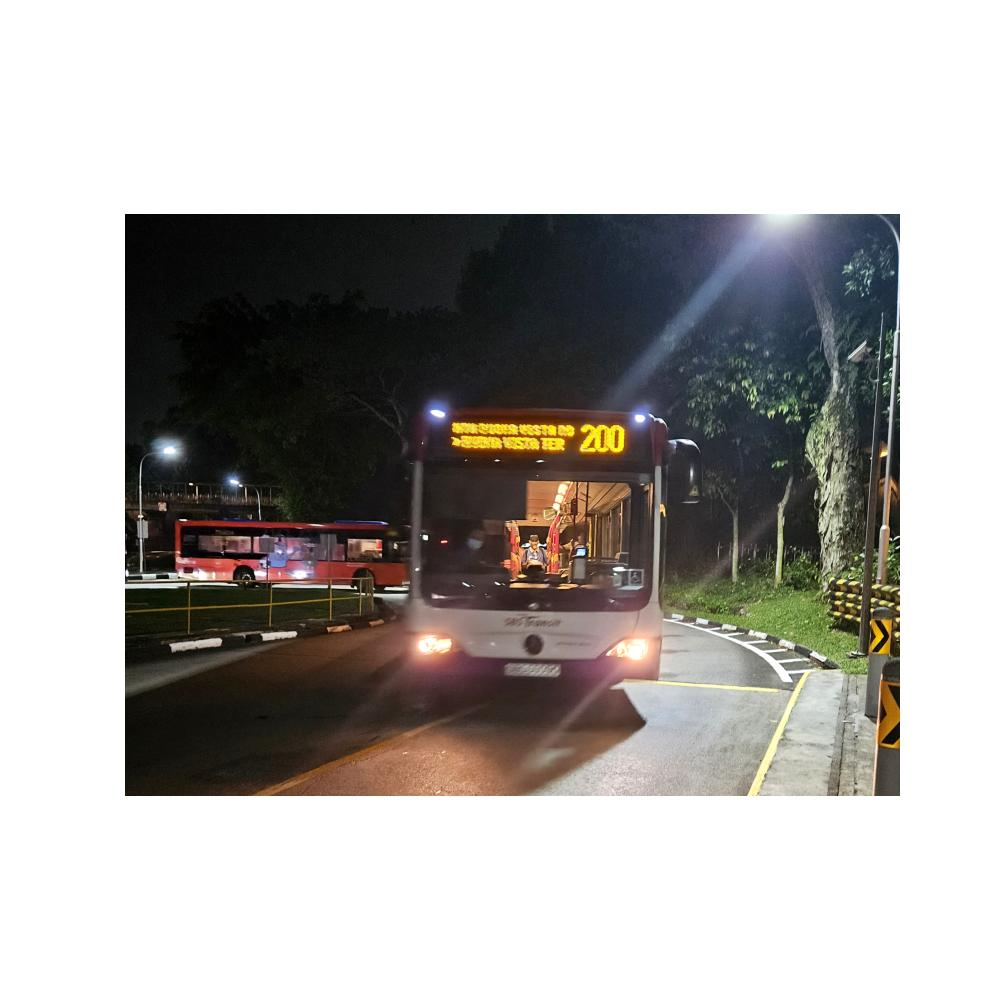bus: (397, 397, 696, 699), (171, 507, 407, 596)
